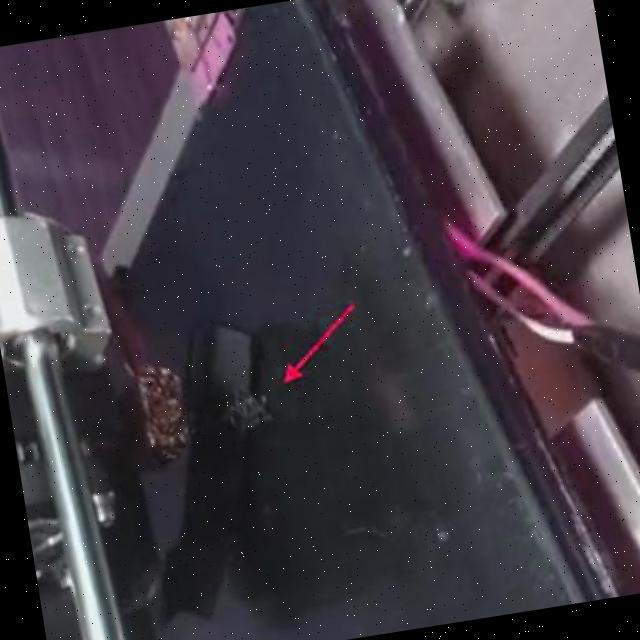spaghetti: (218, 378, 272, 433)
